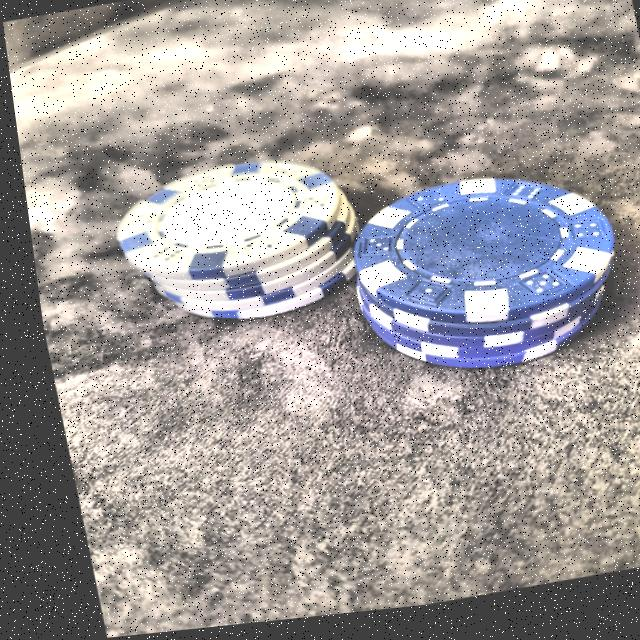Chip: (311, 141, 634, 421), (79, 125, 374, 370)
